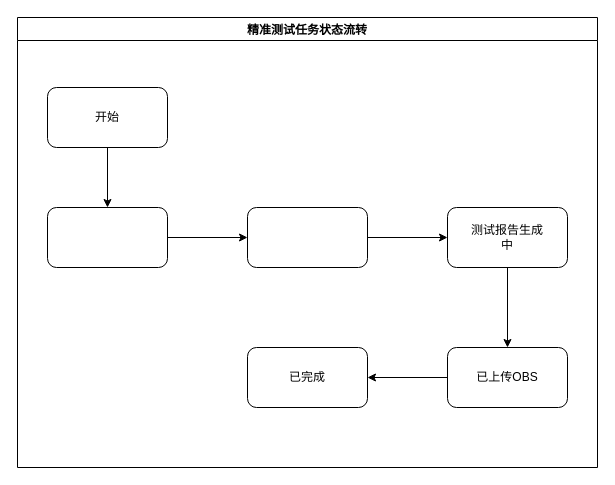
Image size: 615x485. Some labels were removed from this diagram. The box of each missing label's shape, as (x1, y1, x2, y2) in pixels:
测试中: (46, 206, 168, 268)
结束测试: (246, 206, 368, 268)
